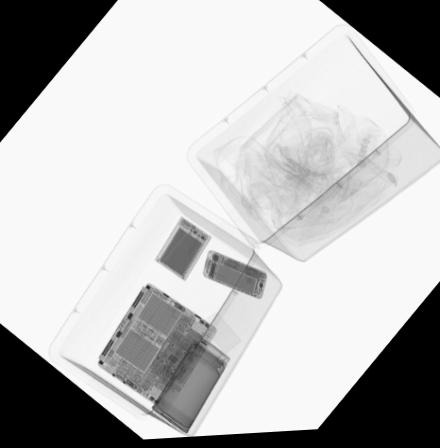Powerbank: (154, 217, 212, 284)
